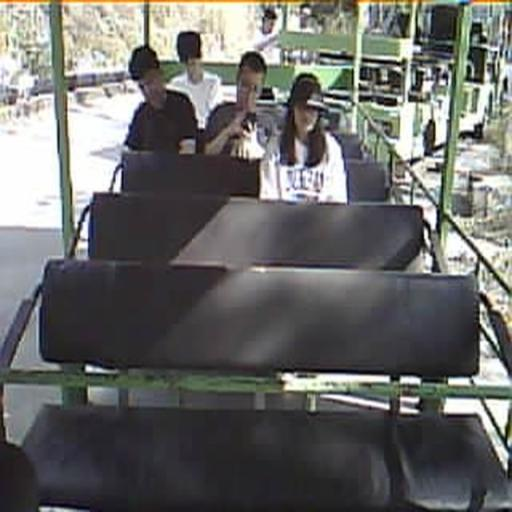persona: (258, 72, 348, 204), (202, 50, 279, 160), (123, 44, 199, 154), (167, 29, 223, 132)
